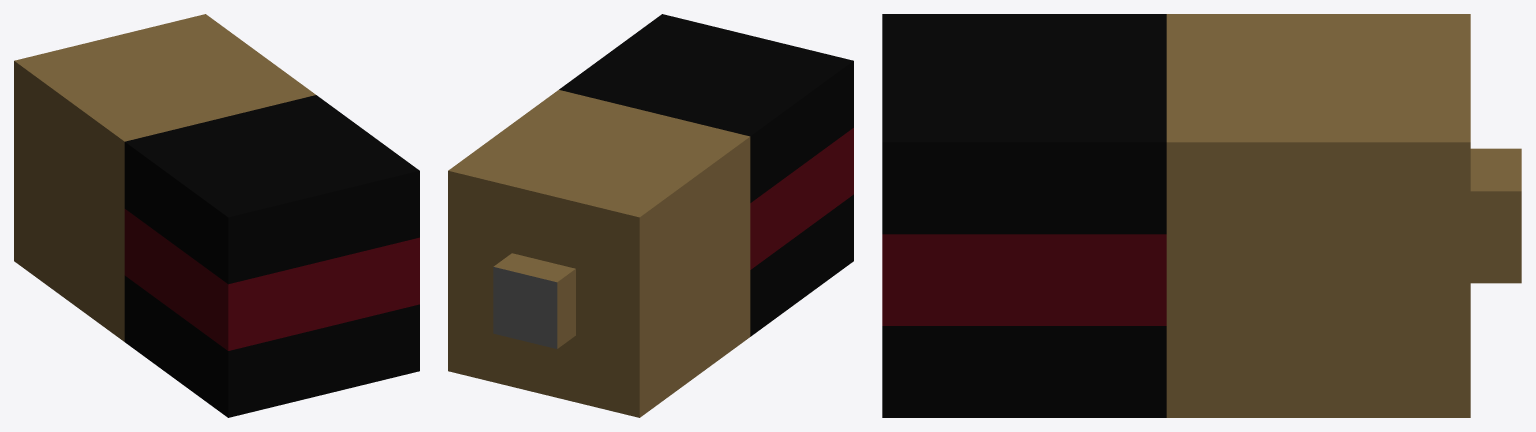
The model's file is BadBattery.fbx.
The picture shows the model from 3 angles, left to right: view 1: azimuth 30°, elevation 25°; view 2: azimuth 150°, elevation 25°; view 3: azimuth 270°, elevation 25°; orthographic projection. The views are drawn at different scales.
Parts seen in each view (by area): view 1: pCube6; view 2: pCube6; view 3: pCube6.
Boxes of the visible parts, x1=… form: pCube6: x1=14, y1=14, x2=419, y2=417; pCube6: x1=448, y1=14, x2=853, y2=417; pCube6: x1=882, y1=14, x2=1521, y2=417.
Bounding box in the file's own units: 1 × 1 × 2.1.
